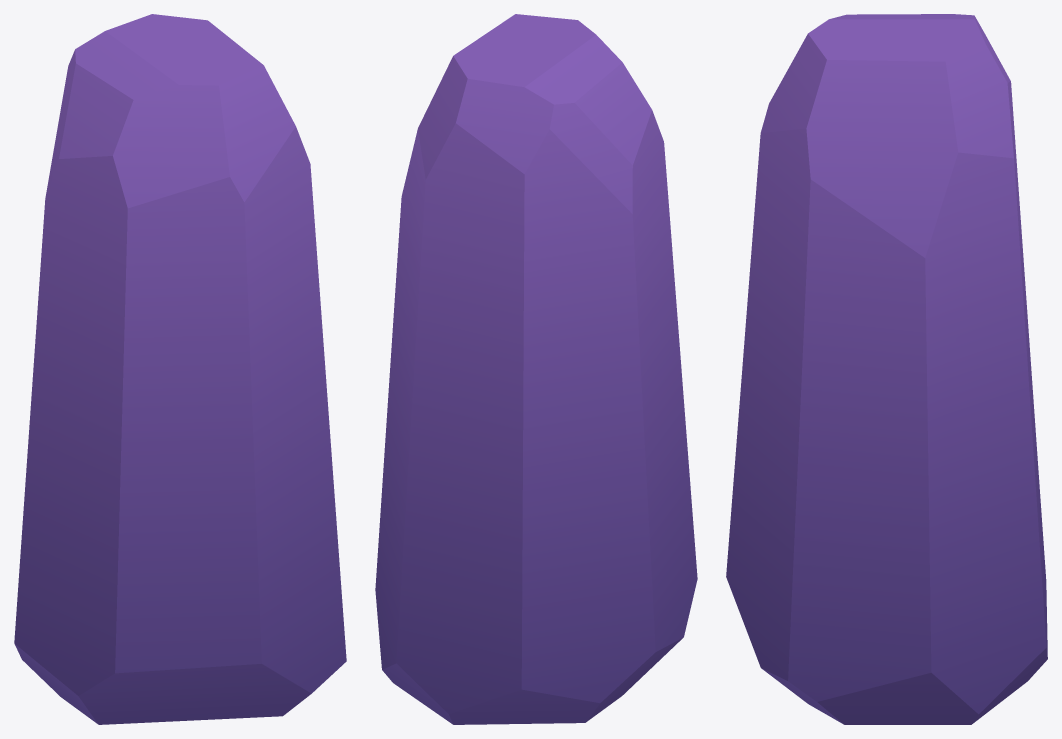
Rendered from Crystal_P_5.glb.
3 renders of one model, left to right at view 1: azimuth 30°, elevation 25°; view 2: azimuth 150°, elevation 25°; view 3: azimuth 270°, elevation 25°, orthographic. The views are drawn at different scales.
Visible parts, largest first — view 1: crystal_5; view 2: crystal_5; view 3: crystal_5.
Boxes of the visible parts, box(x1,y1,x2,y2) form: crystal_5: box(14, 14, 346, 724); crystal_5: box(375, 14, 697, 724); crystal_5: box(726, 14, 1047, 724).
Size of the model in its own units: 0.4661 by 1 by 0.4559.
Materials: 1 (1 with a texture image).
